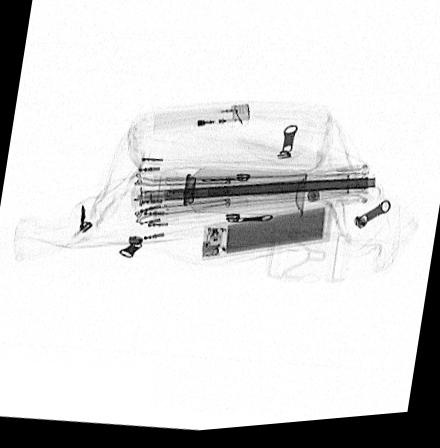Lighter: (153, 108, 250, 138)
Powerbank: (203, 210, 334, 264)
Sprayer: (158, 170, 306, 224)
